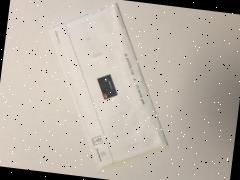paper: (24, 0, 203, 180)
